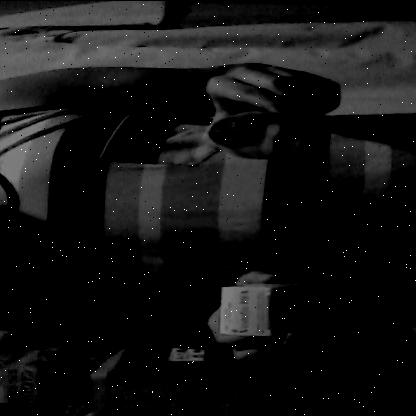Plastic Bottle: (192, 106, 348, 165)
